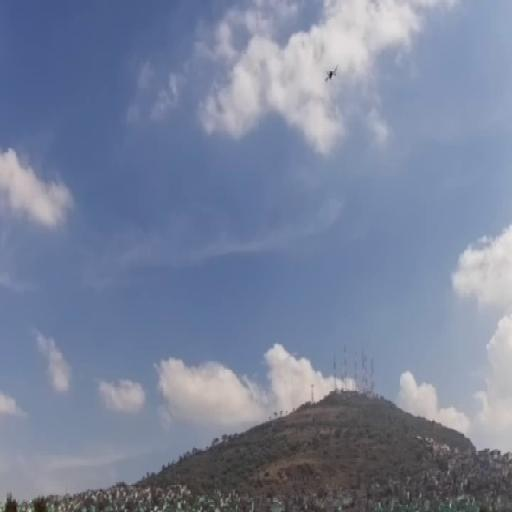drones: (323, 59, 341, 92)
